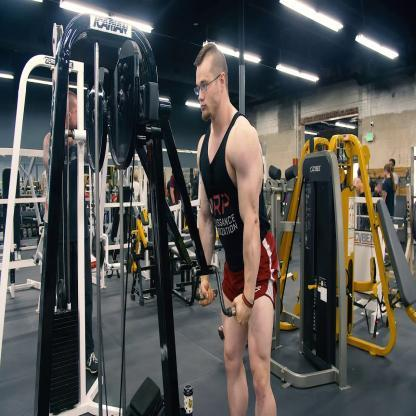lateral raises machine: (65, 13, 238, 416)
